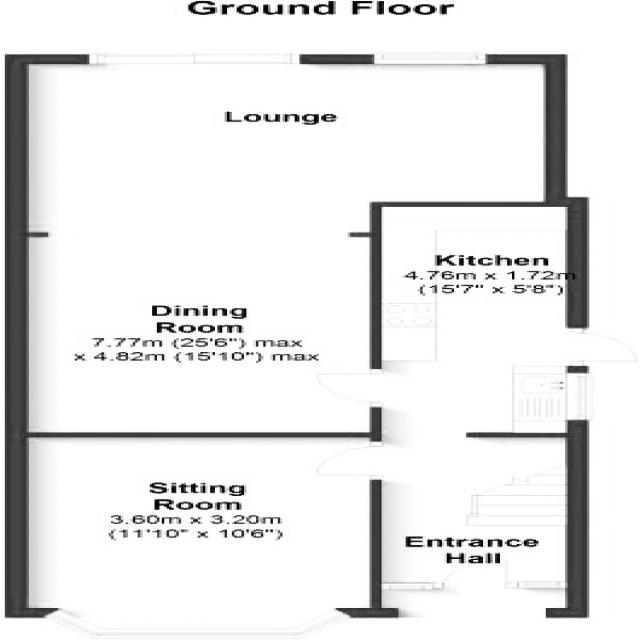DOOR: (438, 552, 510, 589), (311, 371, 386, 404), (312, 445, 386, 477), (566, 332, 639, 364)
ROOM: (3, 50, 568, 438), (307, 197, 640, 589), (3, 432, 385, 639)
WINDOW: (85, 626, 303, 639), (289, 608, 358, 638), (42, 608, 108, 638), (372, 51, 490, 65), (564, 372, 591, 422), (380, 581, 436, 591), (517, 580, 569, 590)
